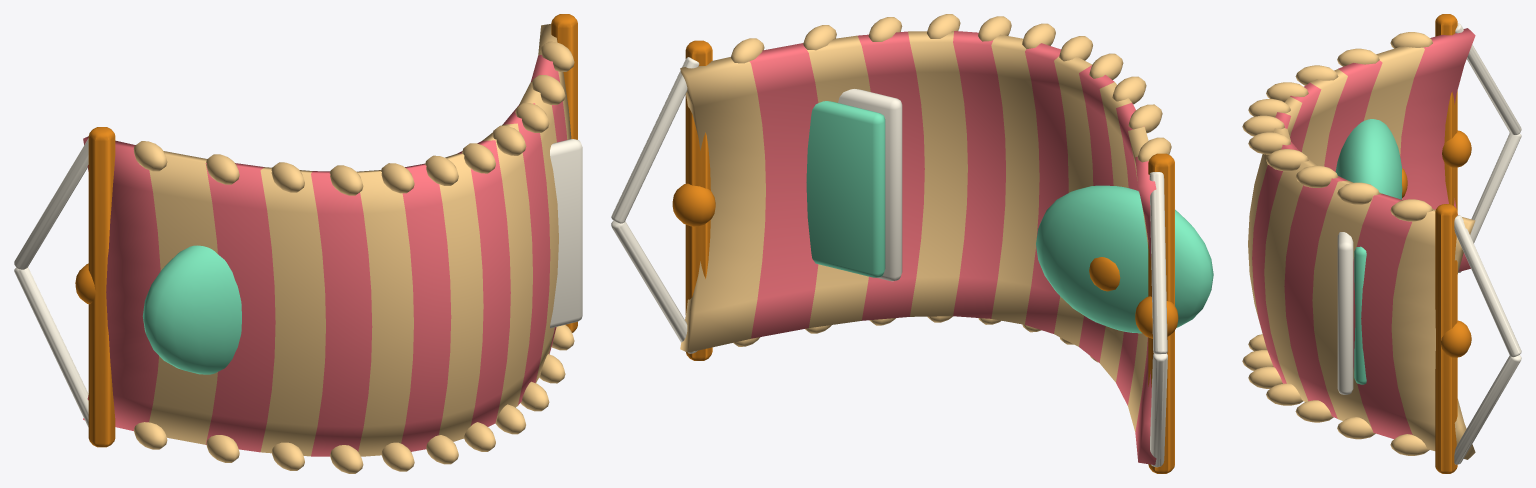
The model's file is GardenHammockBed_Premium.fbx.
3 renders of one model, left to right at view 1: azimuth 30°, elevation 25°; view 2: azimuth 150°, elevation 25°; view 3: azimuth 270°, elevation 25°, orthographic. The views are drawn at different scales.
Visible parts, largest first — view 1: GardenHammockBed; view 2: GardenHammockBed; view 3: GardenHammockBed.
Boxes of the visible parts, x1,y1,x2,y2 form: GardenHammockBed: (14,14,582,473); GardenHammockBed: (611,14,1213,473); GardenHammockBed: (1242,14,1521,473).
Size of the model in its own units: 0.959 by 0.52 by 0.4967.
